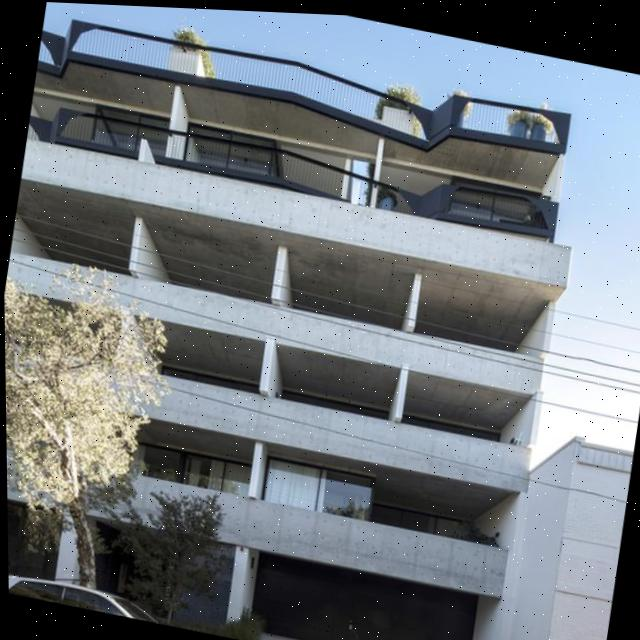building: (0, 8, 589, 640)
